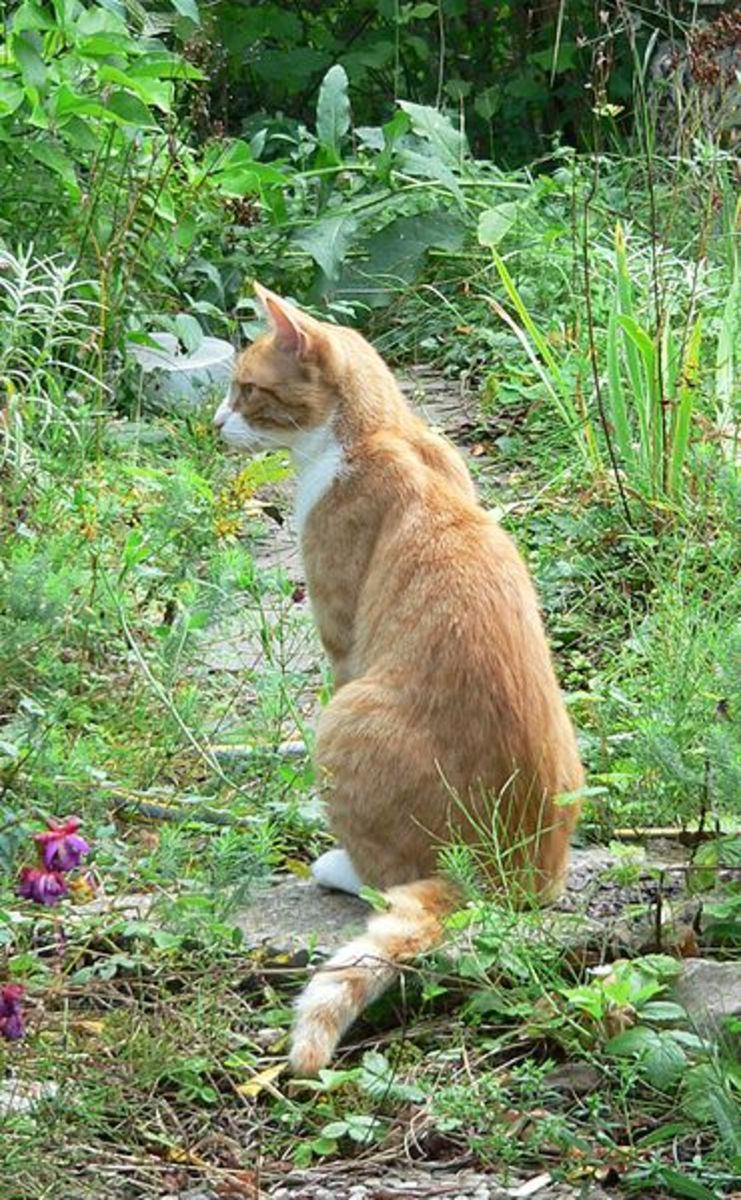cat: (213, 279, 584, 1065)
